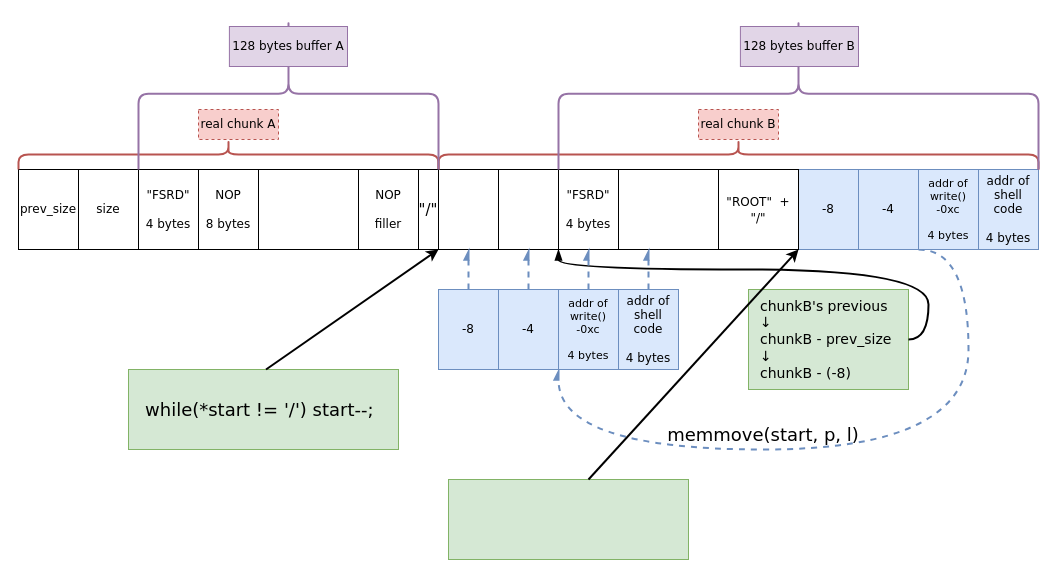
The diagram is 1056 pixels wide and 577 high, and some of its shapes have lost their labels. The centre of each missing label's shape, as x and y in pixels:
p = rindex(buf, '/'): (568,519)
padding use "Z": (668,209)
prev_size = -8 4 bytes: (468,209)
Shellcode: (308,209)
size = -4 4 bytes: (528,209)
